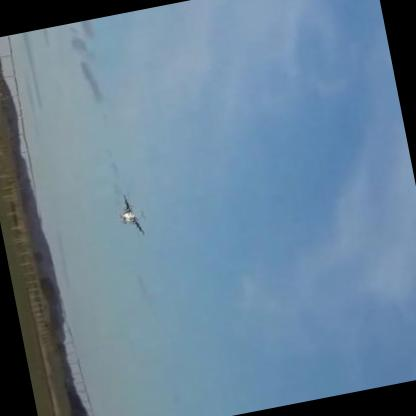plane: (112, 190, 149, 242)
